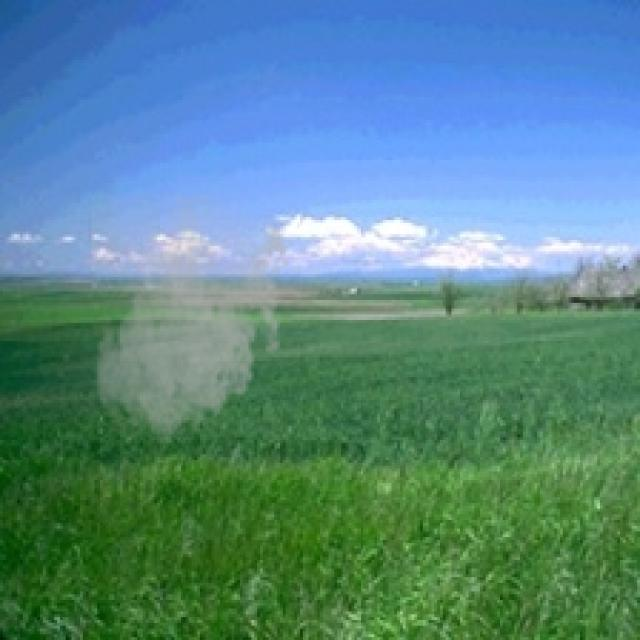smoke: (89, 194, 294, 452)
